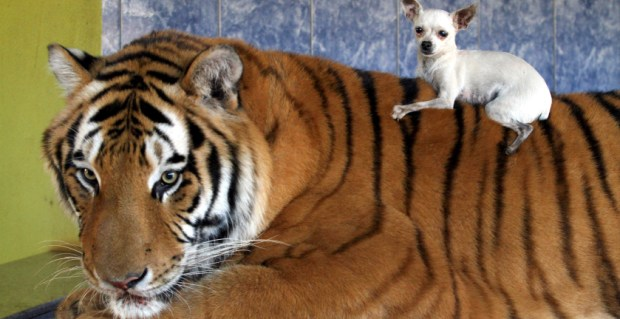dog: (393, 1, 549, 149)
tiger: (40, 33, 619, 319)
